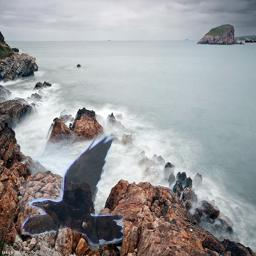Crow: (20, 134, 124, 244)
